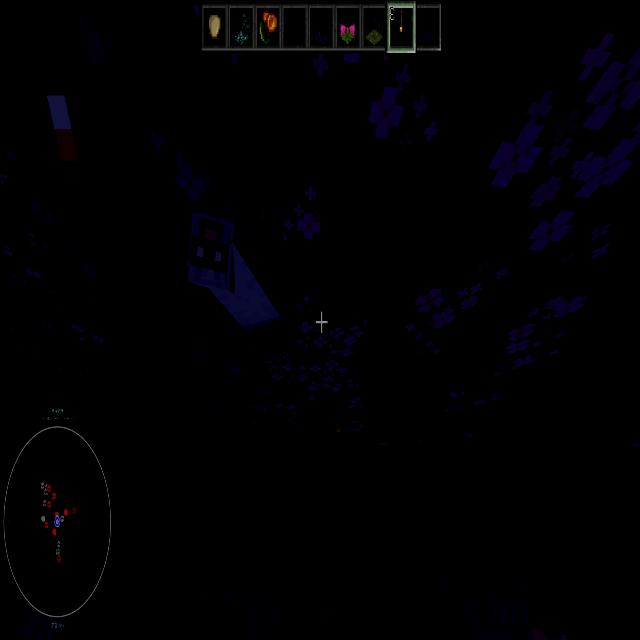Spider: (302, 388, 350, 450)
